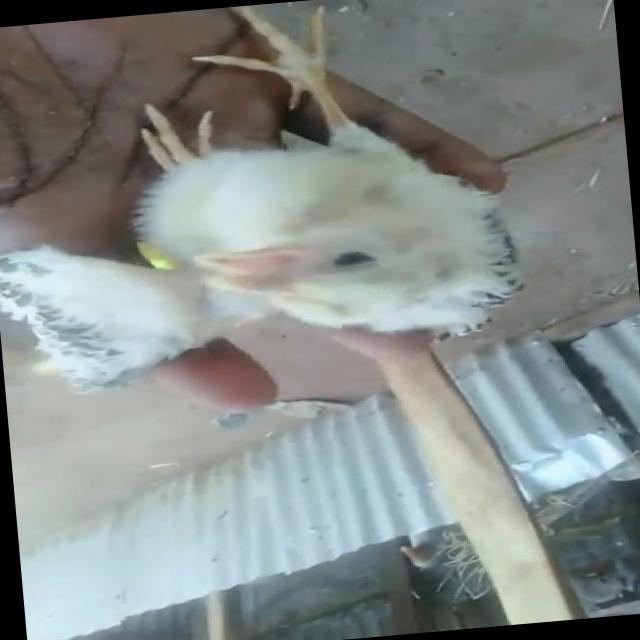newcastle: (80, 0, 534, 362)
